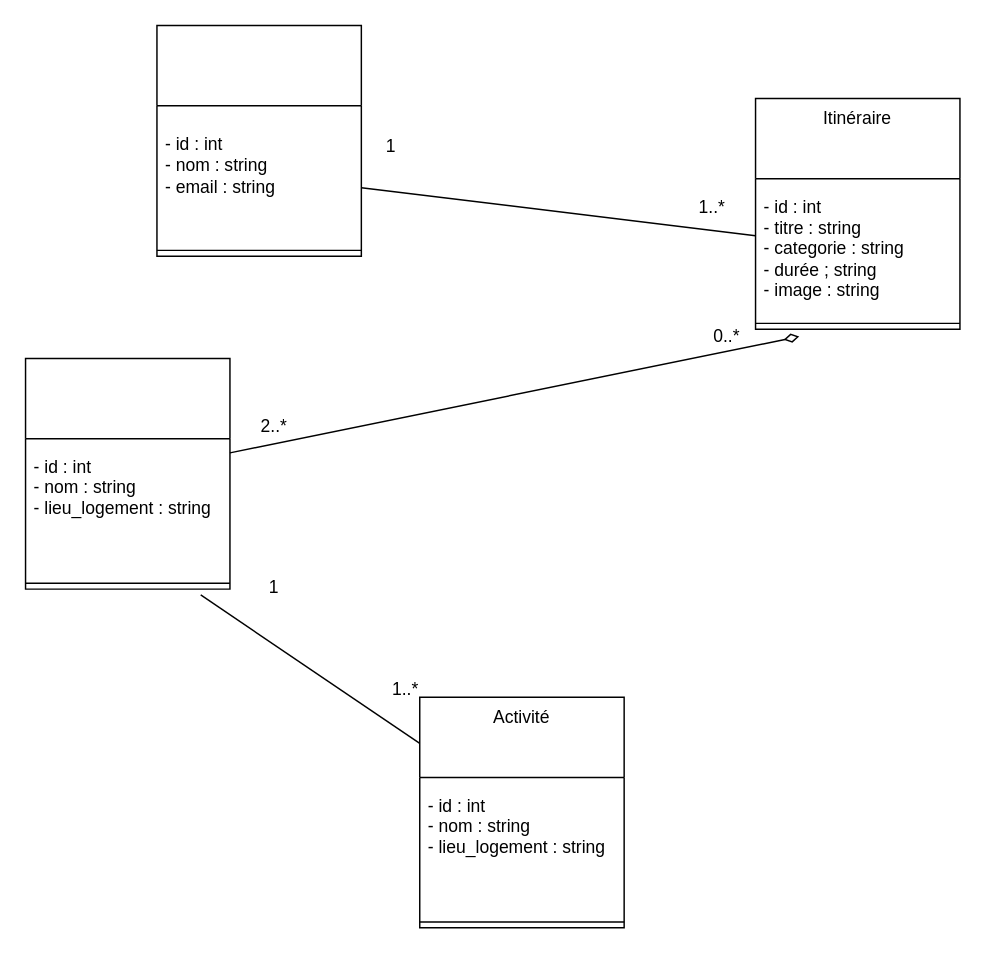
Image size: 986x953. Some labels were removed from this diagram. The box of each missing label's shape, as (x1, y1, x2, y2) in pixels:
Destination: (24, 357, 230, 589)
Voyageur: (155, 24, 361, 256)
